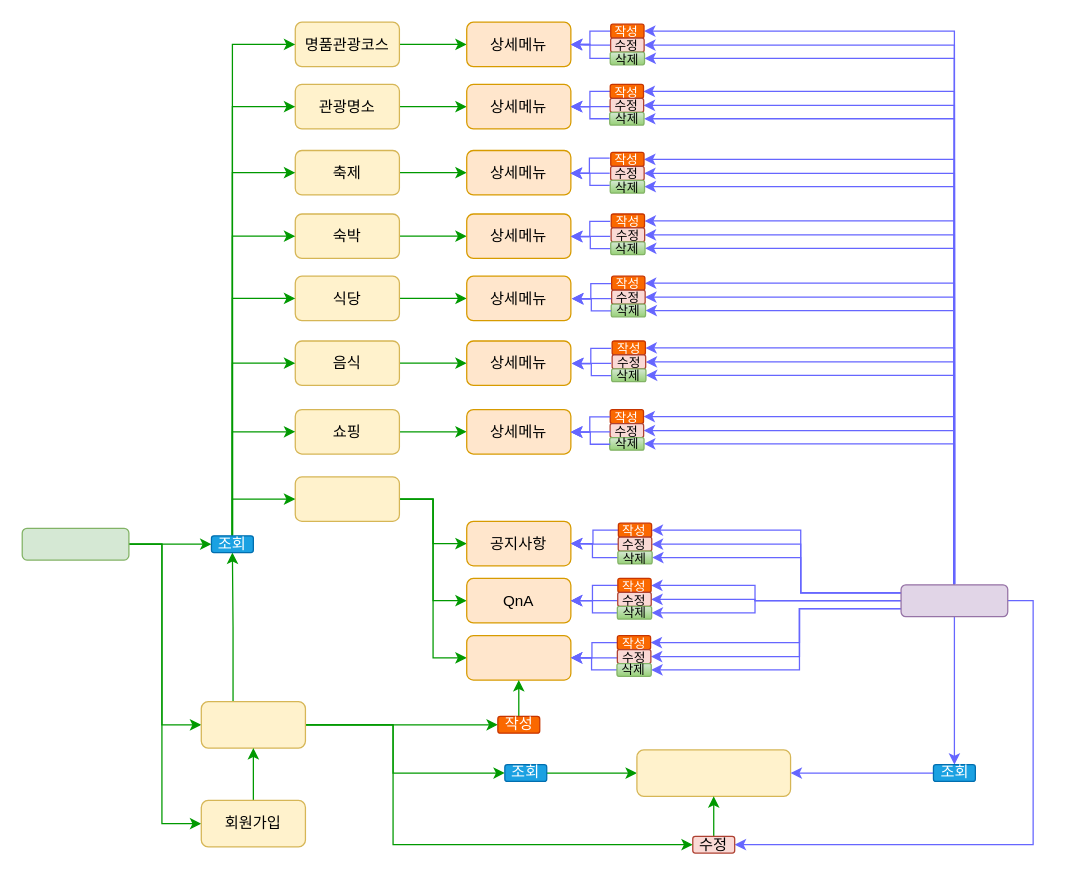
Some shapes in this 1066 by 878 pixel diagram are drawn without their labels. Here are the shapes that lost their labels. From the top down, the box of each, then its label:
(294, 476, 399, 521): 더알아보기
(21, 527, 129, 560): 사용자
(900, 584, 1008, 617): 관리자
(465, 634, 571, 680): 이용후기
(200, 700, 305, 748): 로그인
(636, 749, 791, 796): 회원정보 조회 및 변경
